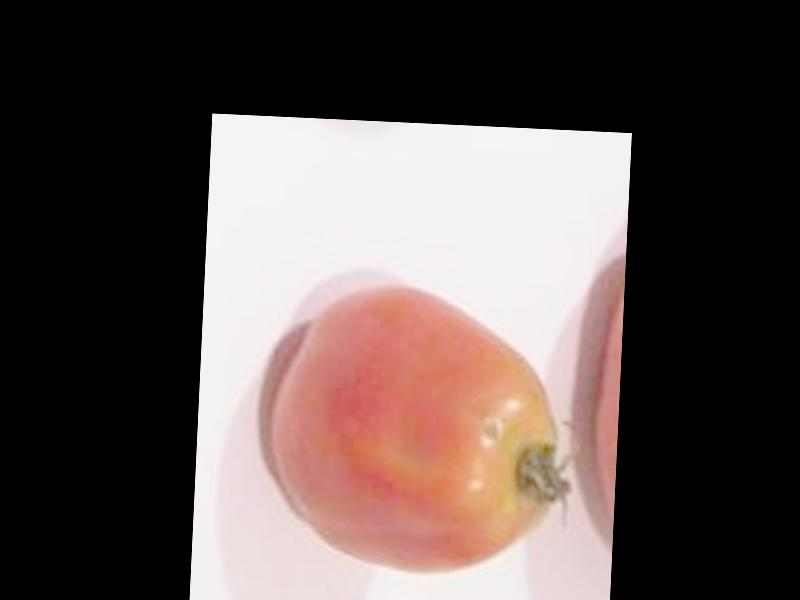Tomato: (271, 281, 568, 577)
